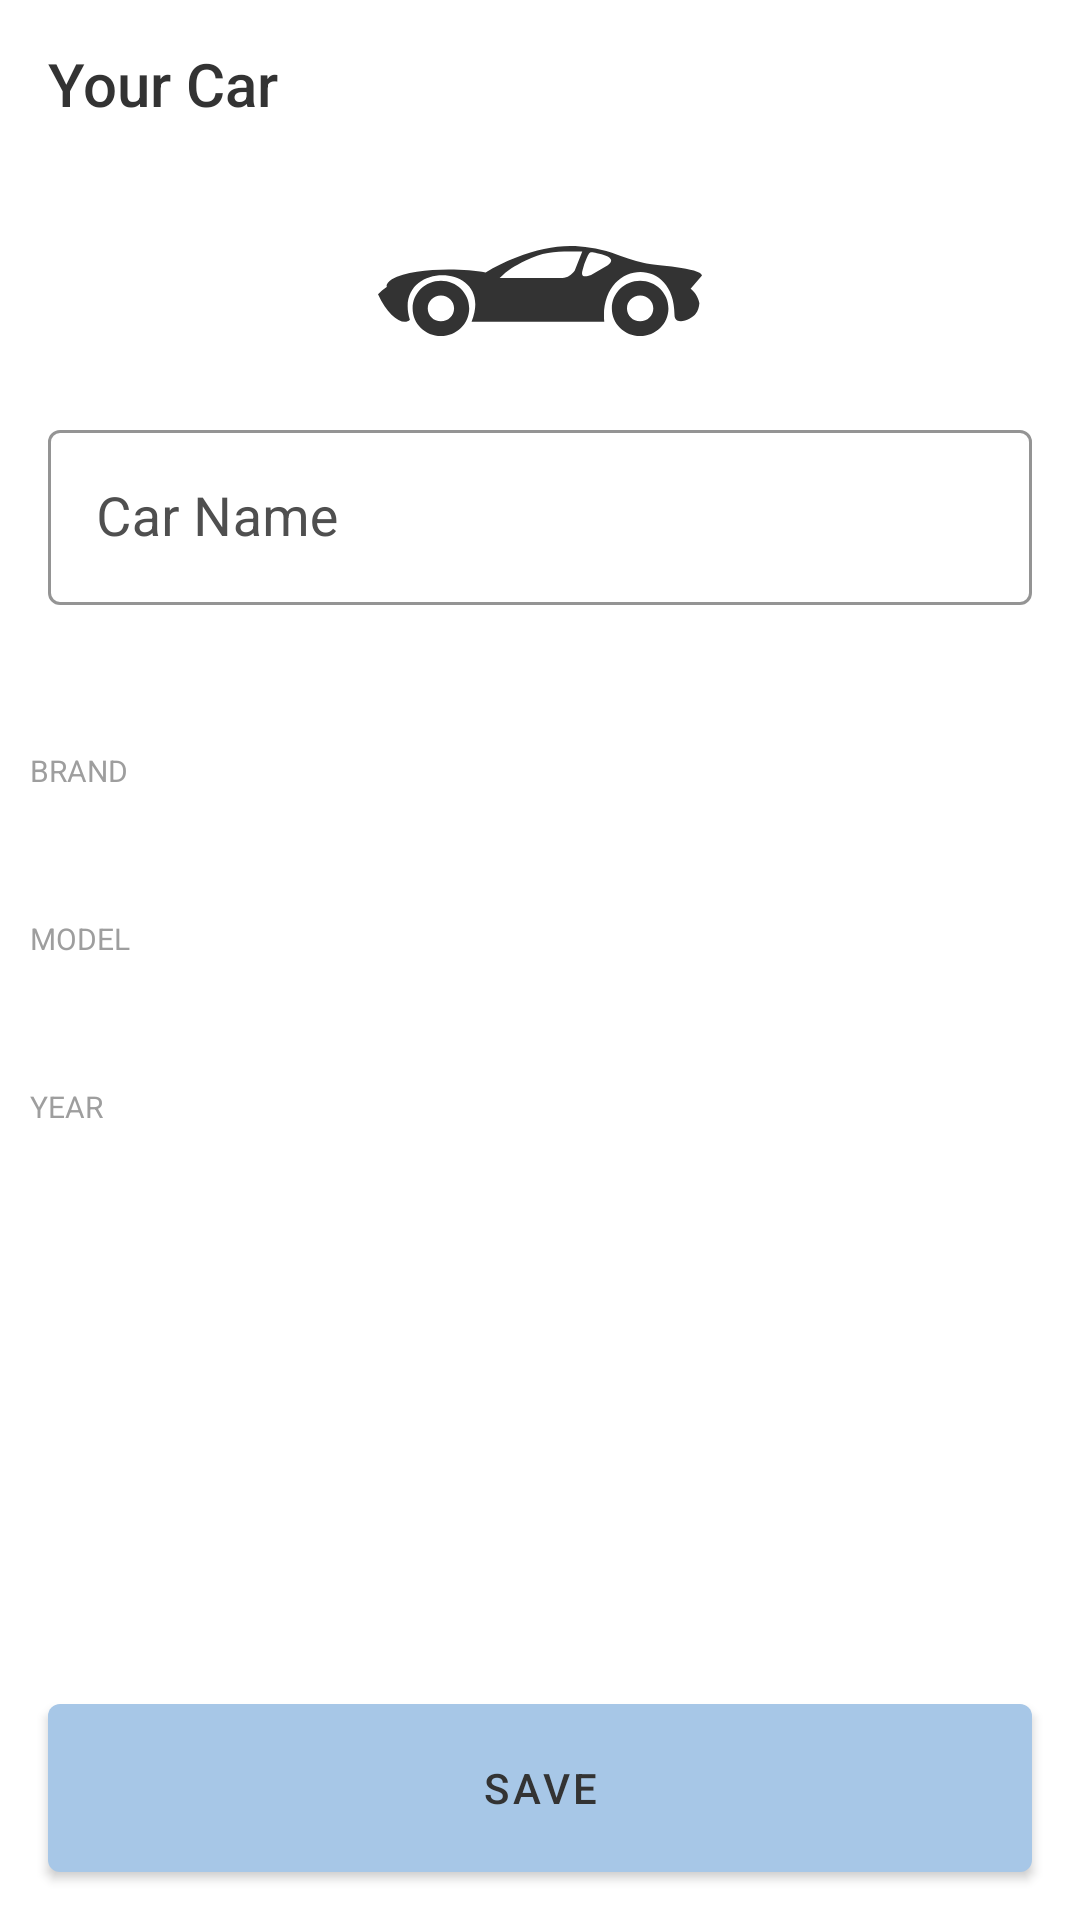

Point at icon controls on the screen. Image size 1080w x 1920h, points as (x,y).
sports car: (540,291)
